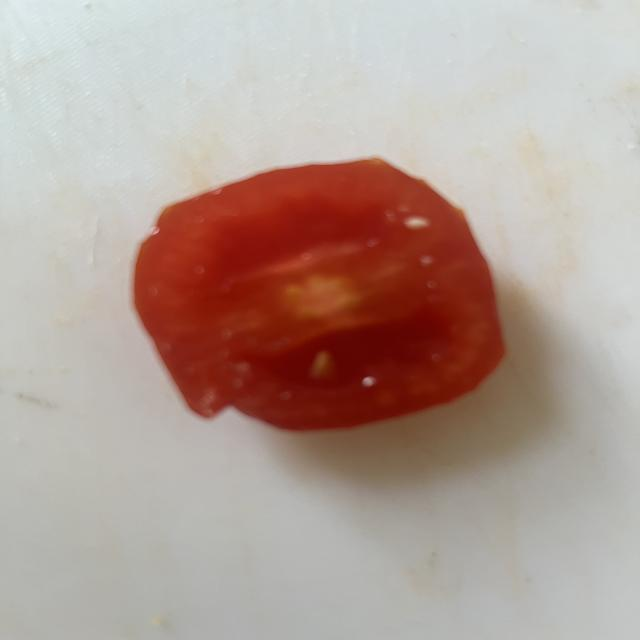sliced_tomato: (135, 159, 504, 430)
